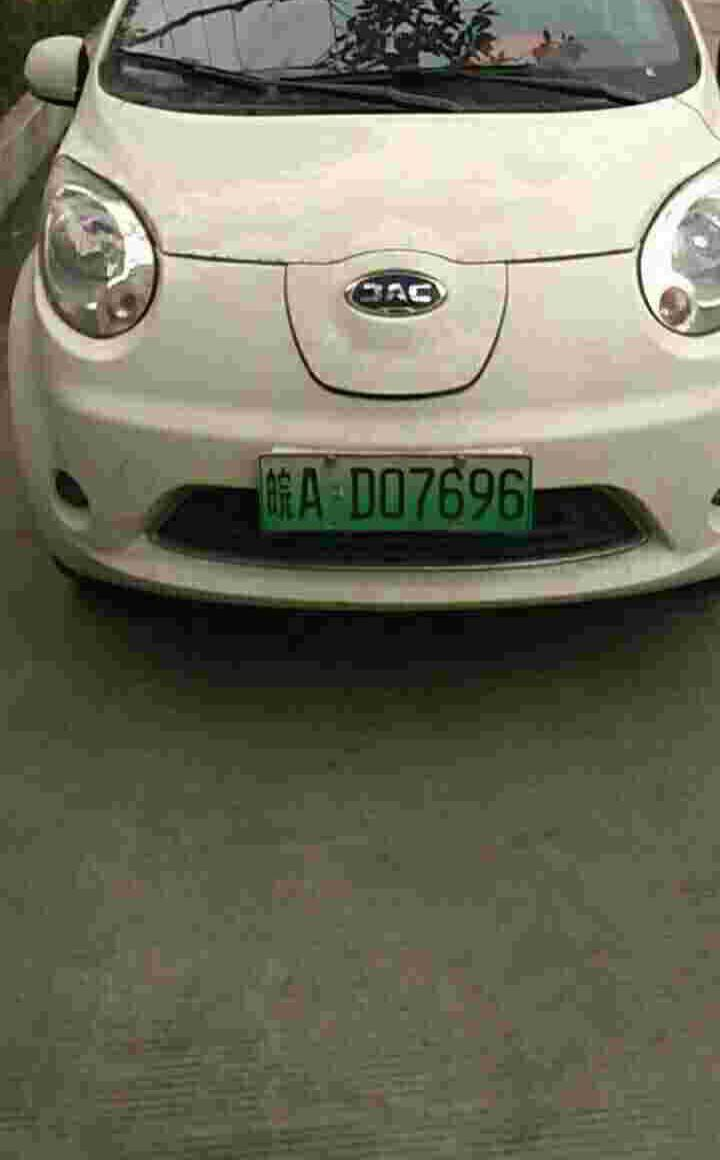car_id: (259, 454, 529, 531)
